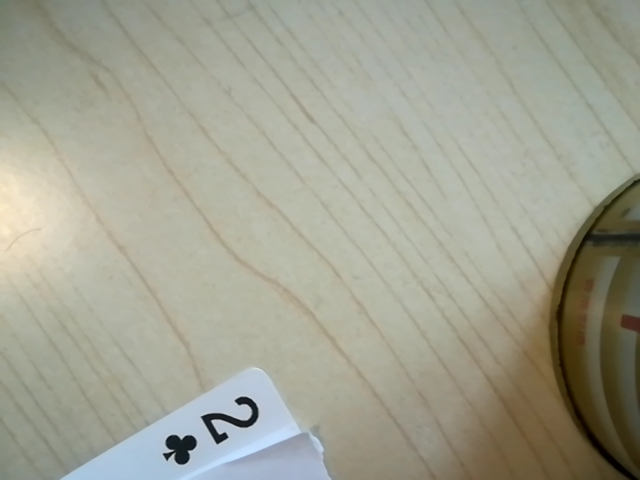mh 2: (153, 395, 279, 469)
